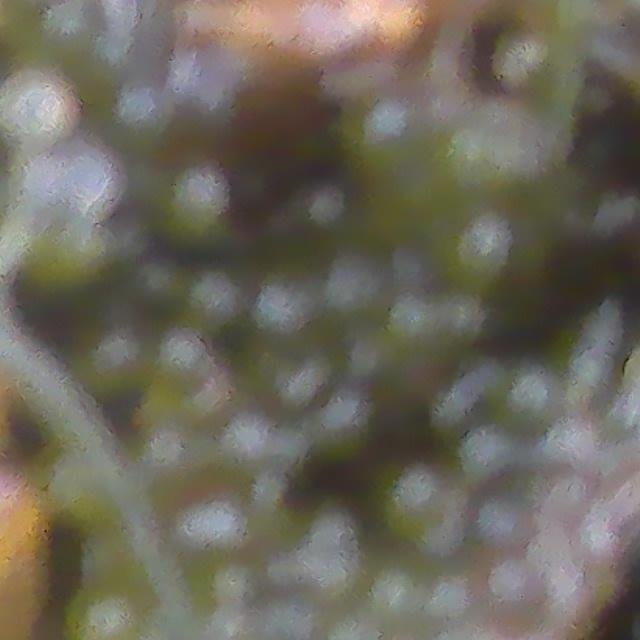SeaGrape: (0, 73, 71, 142), (62, 149, 123, 208), (0, 155, 57, 206)
